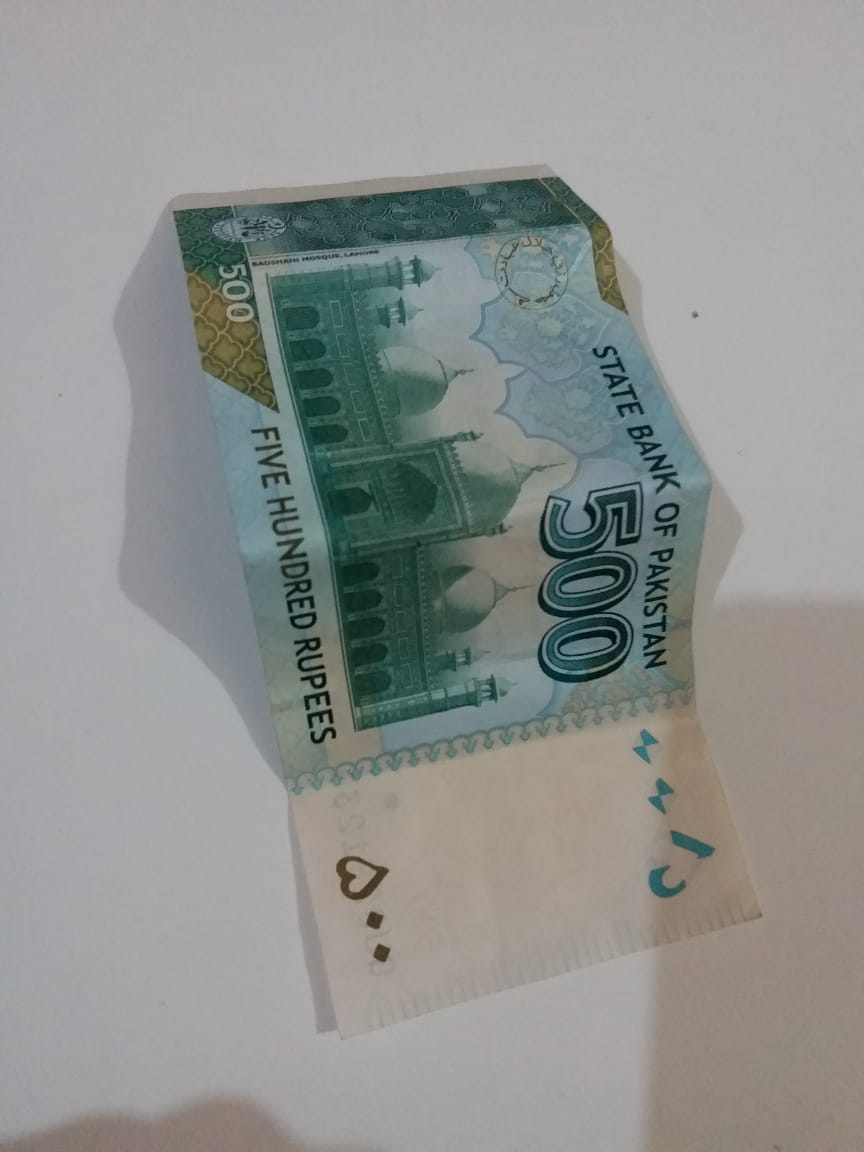500 rupee: (126, 152, 763, 1000)
